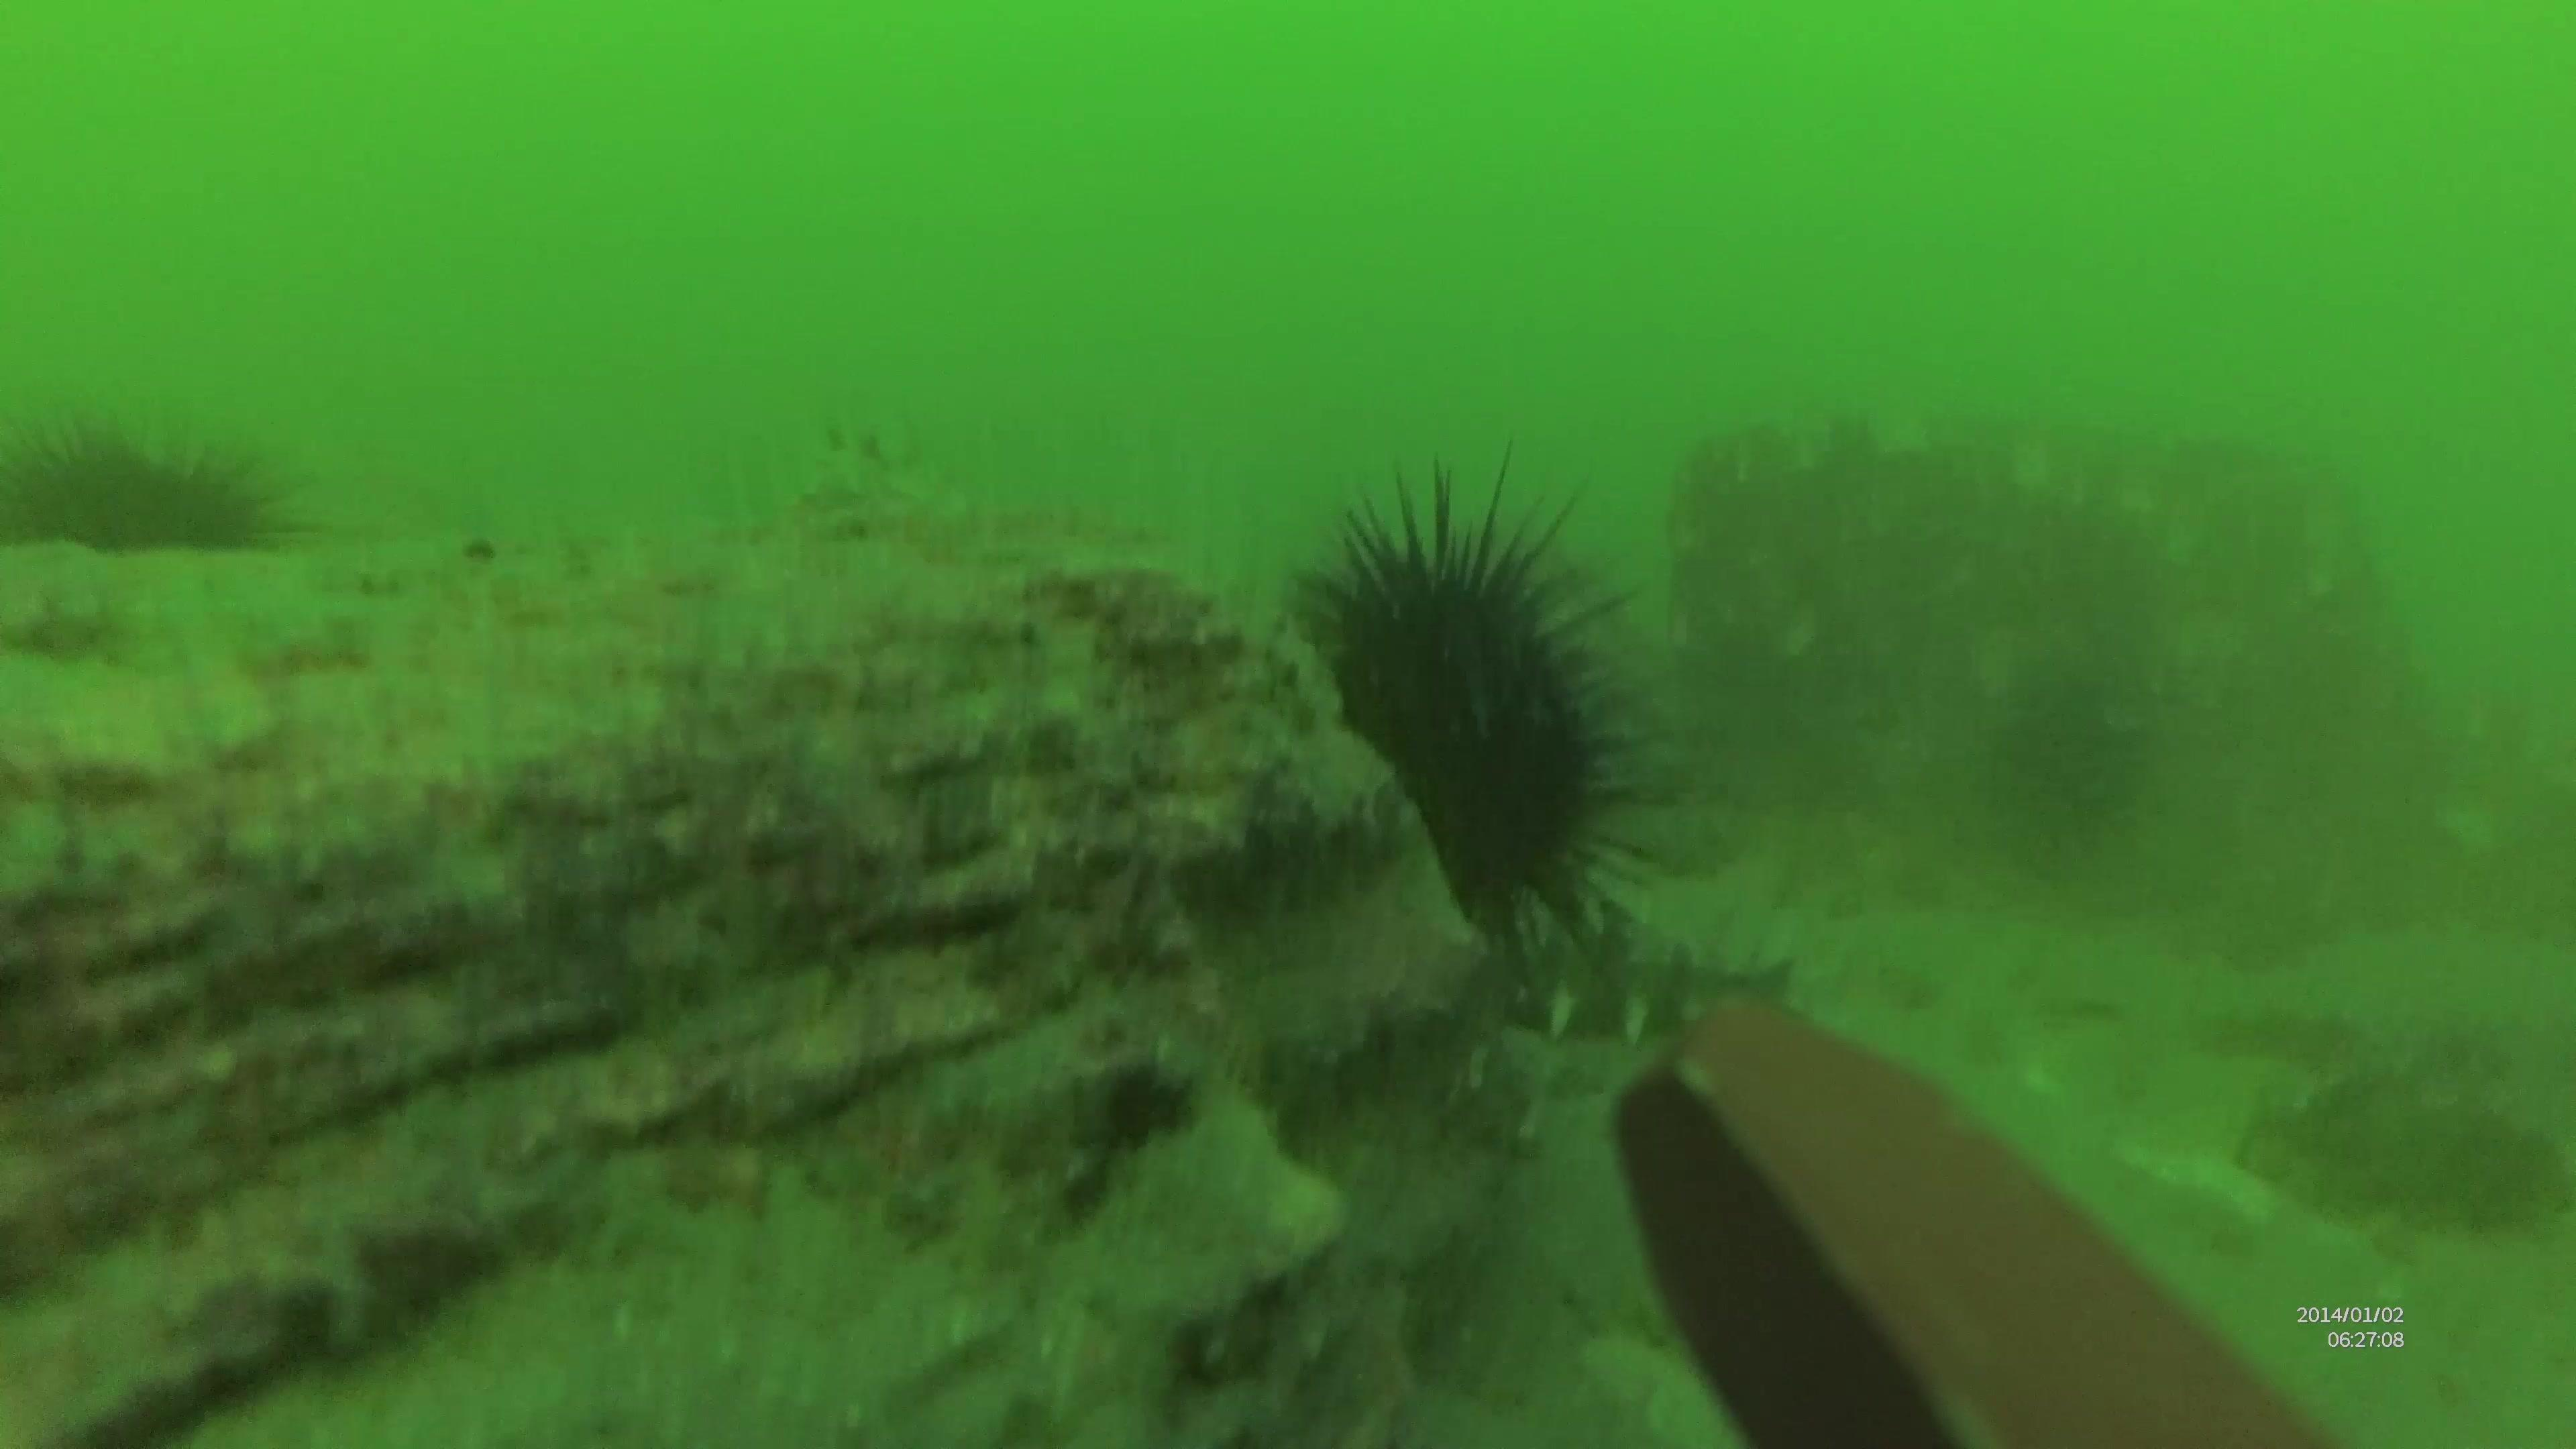echinus: (1290, 441, 1688, 962), (4, 400, 324, 556)
holothurian: (1514, 918, 1799, 1058)
